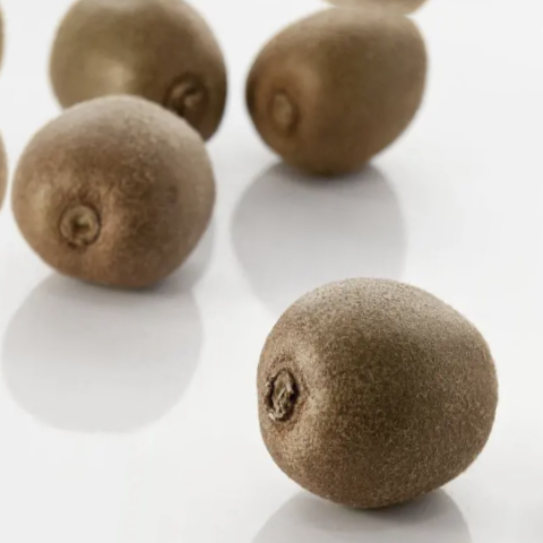kiwi: (217, 244, 535, 541), (0, 80, 256, 320)
